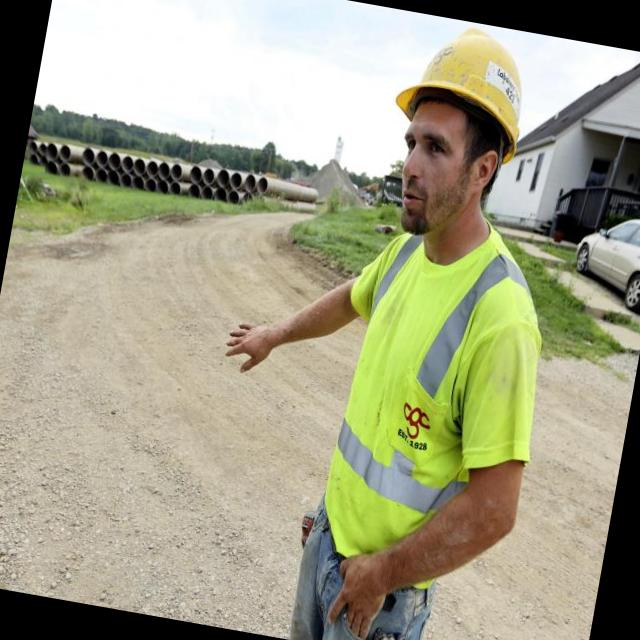Helmet: (385, 20, 557, 162)
